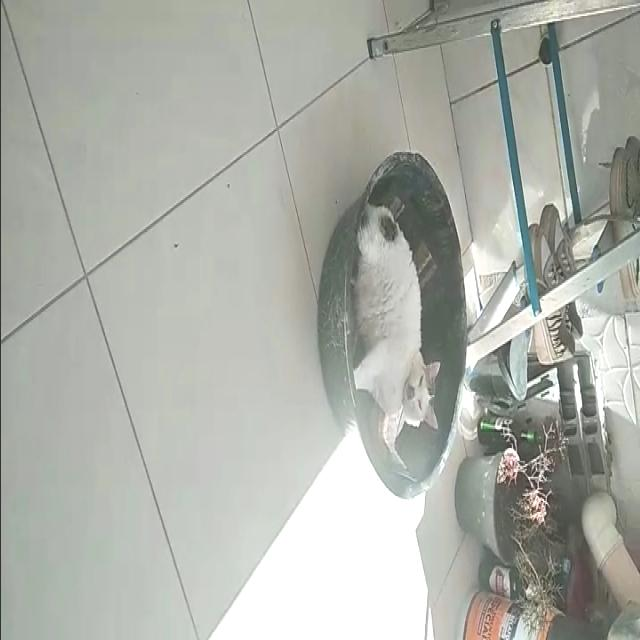Simba: (354, 195, 446, 474)
